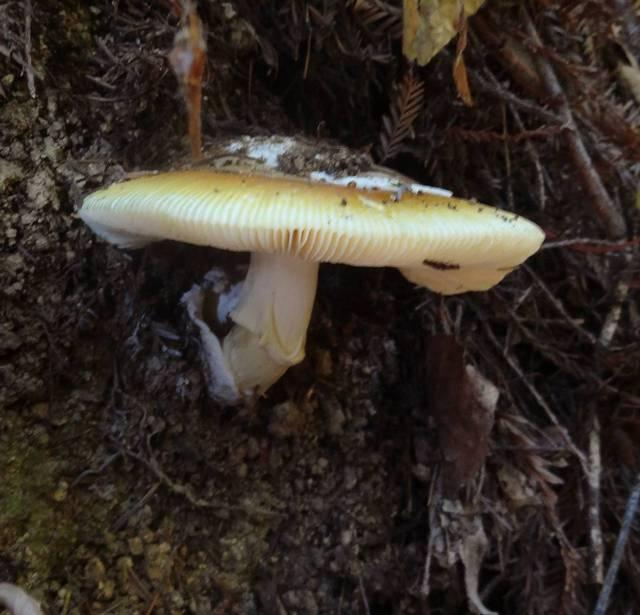edible_mushroom: (74, 148, 546, 404)
